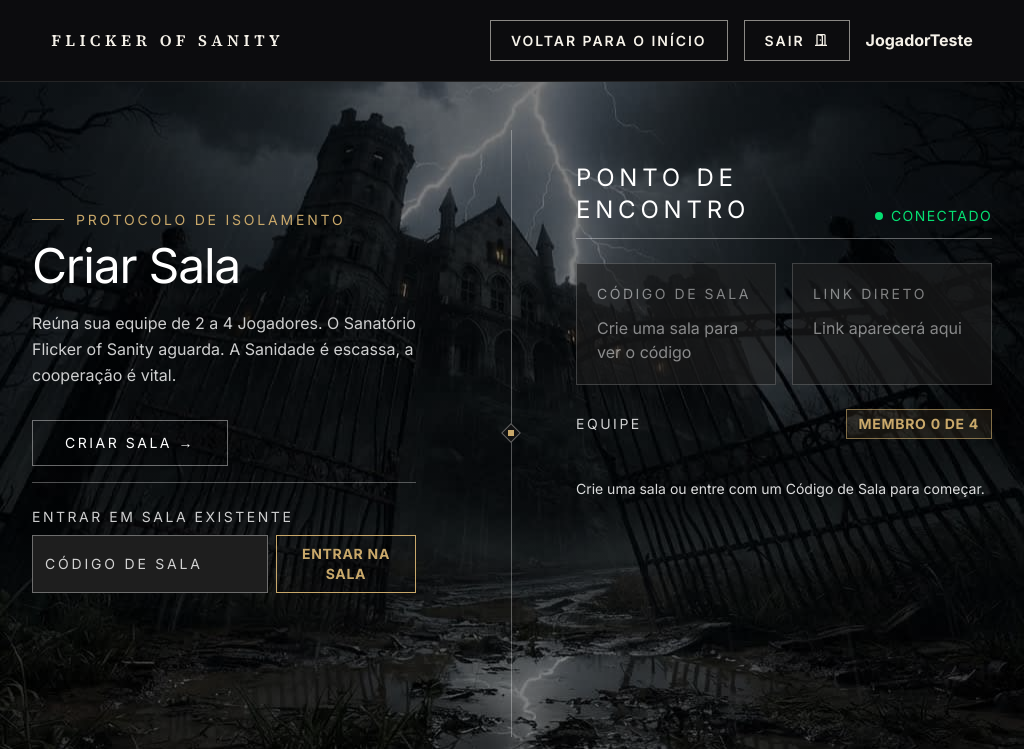
Test: header variations (issue #211) › variação 3 — Logado em Criação (/salas/criar, sem sala): sem âncoras + Voltar + Sair sem SAIR_DA_SALA
The image size is (1024, 749).
Check: the text "JogadorTeste" is shown, box [866, 28, 973, 52]
Check: the picture with class "site-header__logout-icon" is shown, box [813, 32, 829, 48]
Step 1. Click the button "Voltar para o início" → (609, 40), box [490, 20, 728, 61]
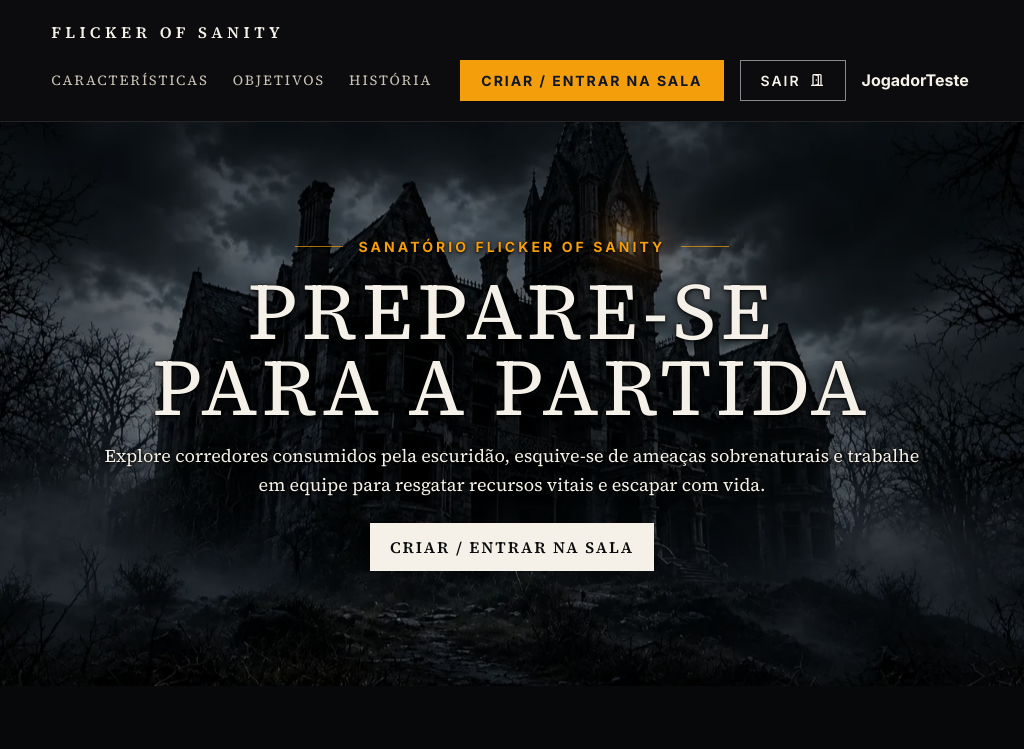
Check: the heading "Prepare-se para a partida" is shown, box [96, 273, 928, 425]
